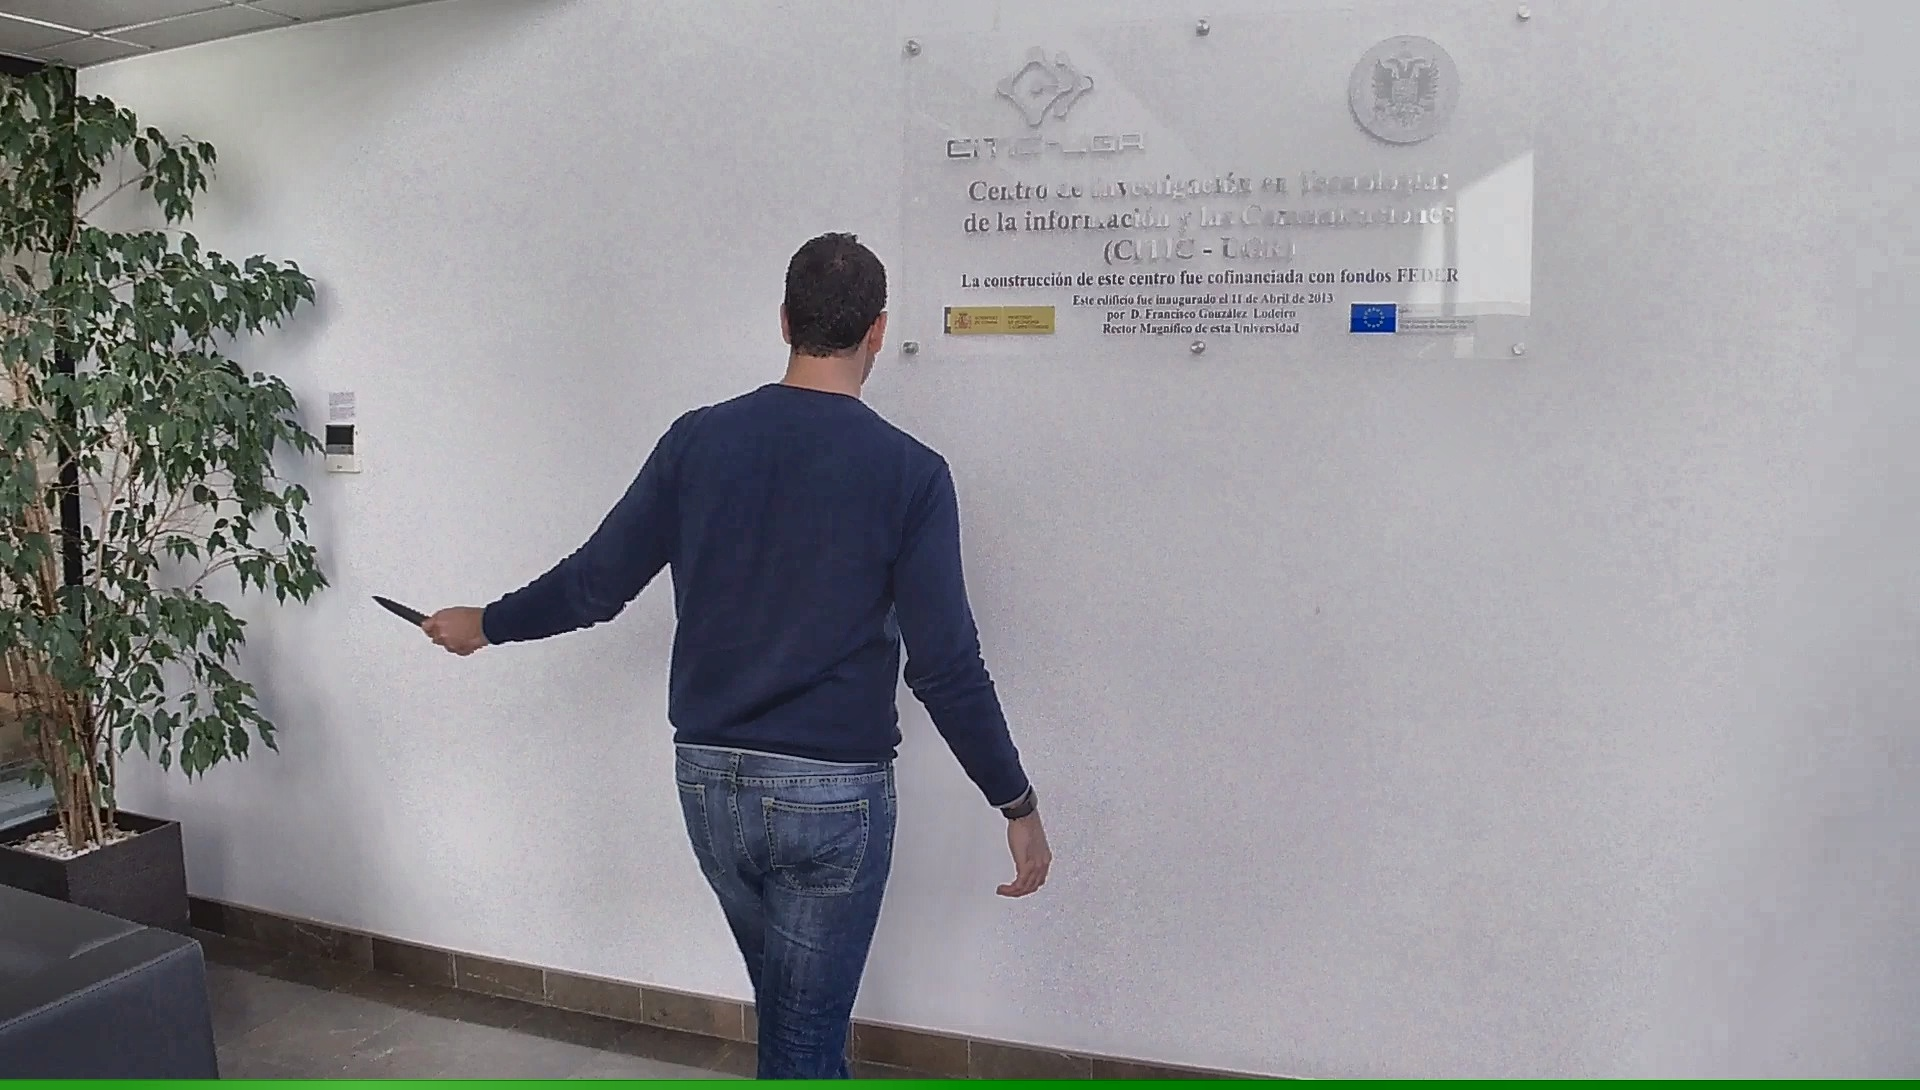knife: (363, 585, 462, 652)
